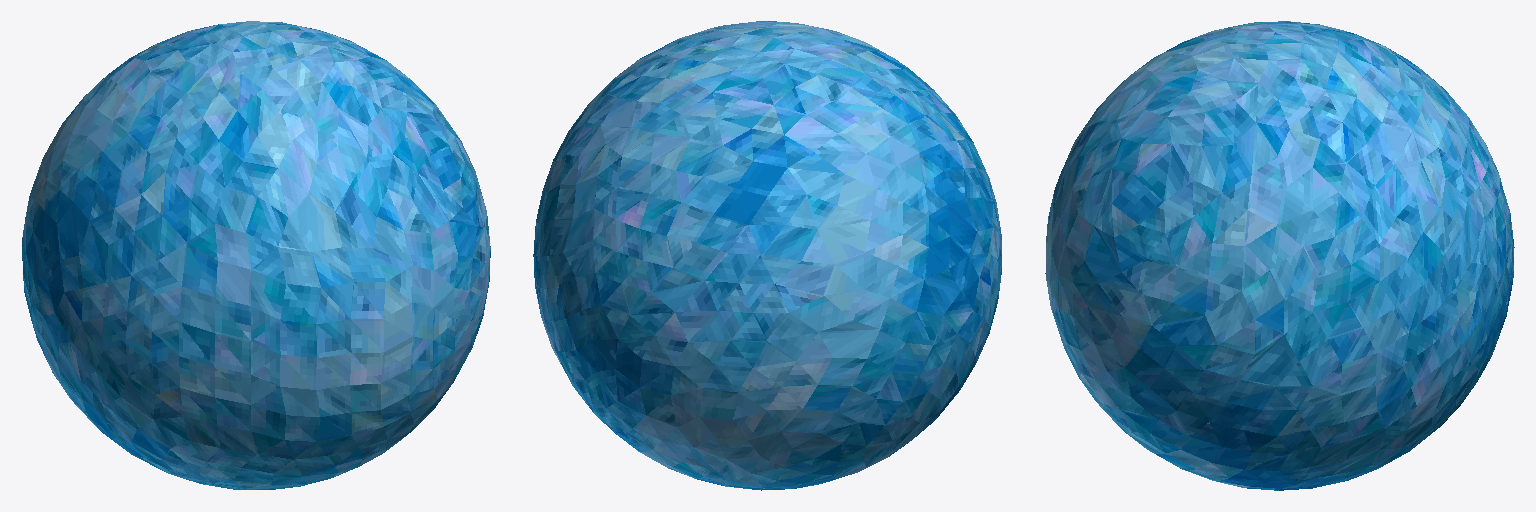
3 views of the same model, side by side, from view 1: azimuth 30°, elevation 25°; view 2: azimuth 150°, elevation 25°; view 3: azimuth 270°, elevation 25° (orthographic).
Parts seen in each view (by area): view 1: Sphere001; view 2: Sphere001; view 3: Sphere001.
Boxes of the visible parts, box(x1,y1,x2,y2) form: Sphere001: box(22, 21, 490, 489); Sphere001: box(533, 21, 1001, 490); Sphere001: box(1045, 21, 1514, 490).
Size of the model in its own units: 0.0064 by 0.0064 by 0.0064.
1 materials, 1 textured.